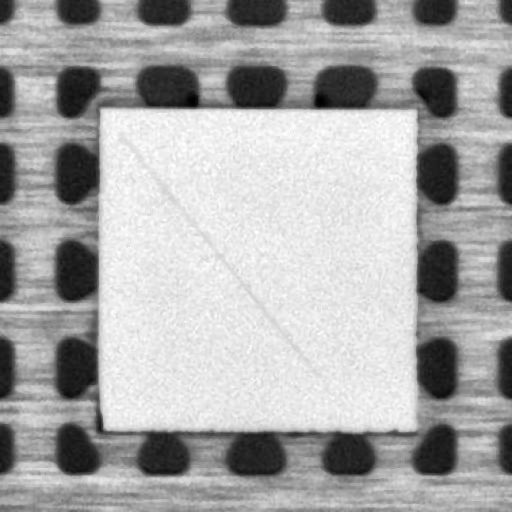DIE_CRACK: (121, 132, 322, 368)
